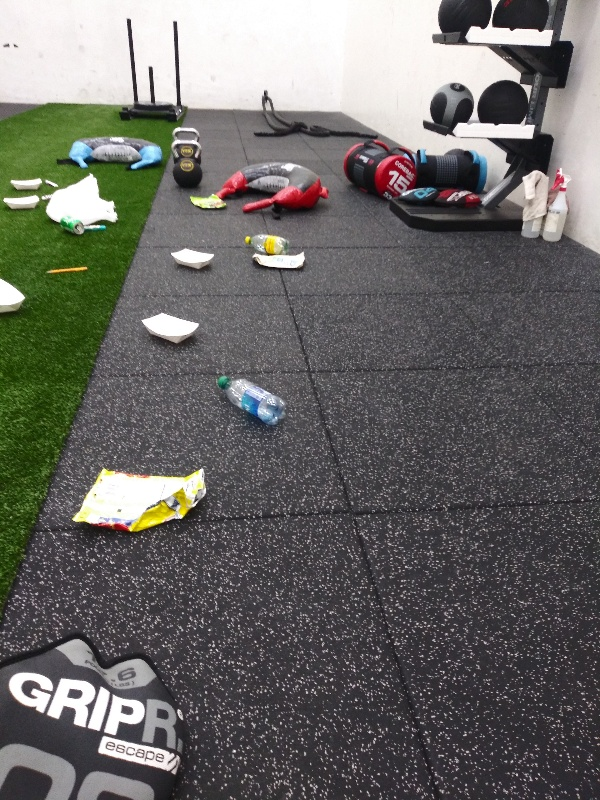bag: (67, 466, 207, 540), (247, 251, 307, 273), (185, 192, 230, 212)
bottle: (215, 368, 294, 432), (240, 232, 293, 251)
can: (57, 219, 86, 235)
plate: (136, 309, 203, 349), (169, 243, 219, 273), (1, 275, 29, 319), (3, 193, 39, 213), (5, 175, 46, 191)
